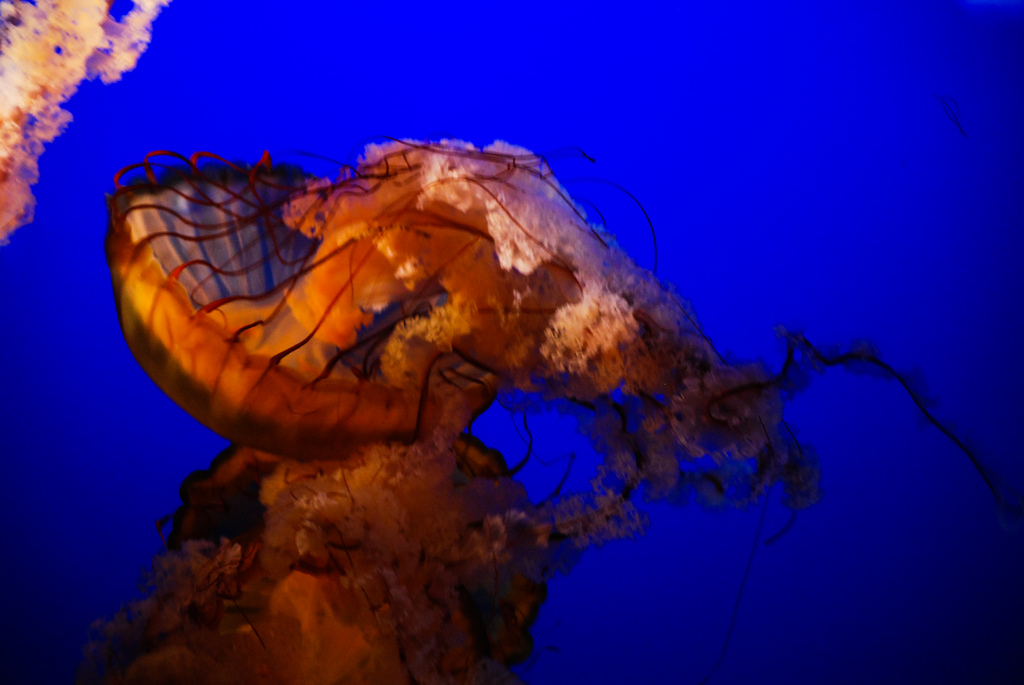Jellyfish: (103, 131, 1020, 505), (83, 406, 758, 684)
